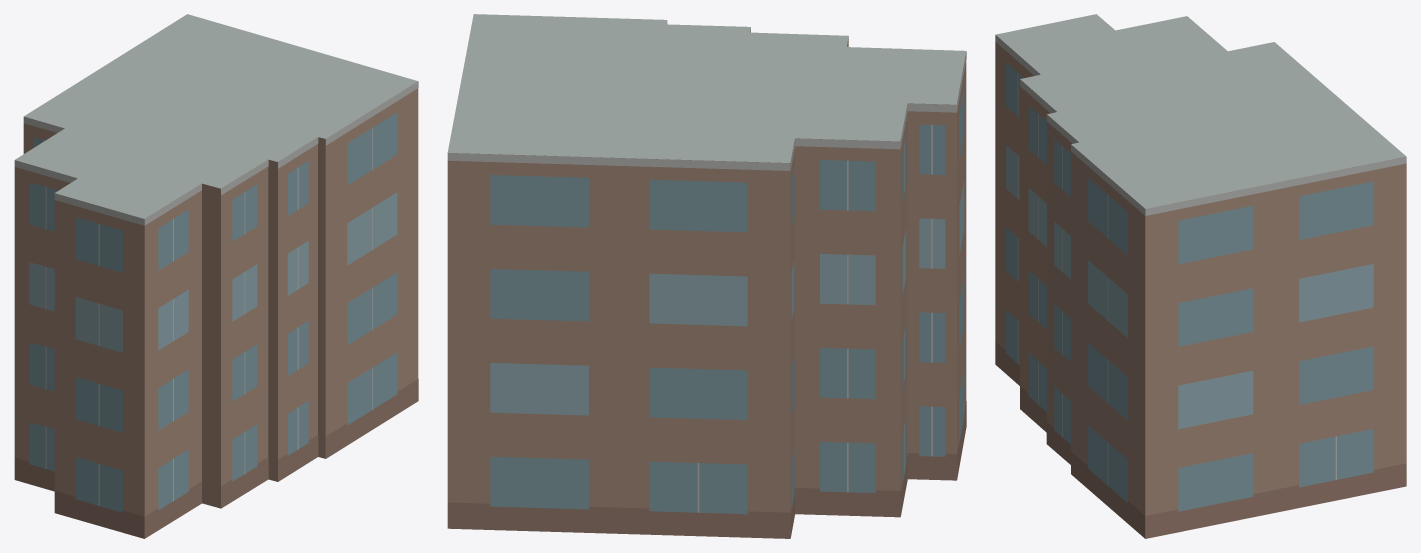
The model's file is survey-upis-33022385.glb.
3 views of the same model, side by side, from view 1: azimuth 30°, elevation 25°; view 2: azimuth 150°, elevation 25°; view 3: azimuth 270°, elevation 25° (orthographic). The views are drawn at different scales.
Parts seen in each view (by area): view 1: survey-upis-33022385.tmp; view 2: survey-upis-33022385.tmp; view 3: survey-upis-33022385.tmp.
Part boxes in pixels (left/top/right/bottom): survey-upis-33022385.tmp: left=14, top=14, right=418, bottom=538; survey-upis-33022385.tmp: left=447, top=14, right=966, bottom=538; survey-upis-33022385.tmp: left=995, top=14, right=1406, bottom=538.
Bounding box in the file's own units: 14.65 × 11.55 × 13.06.
